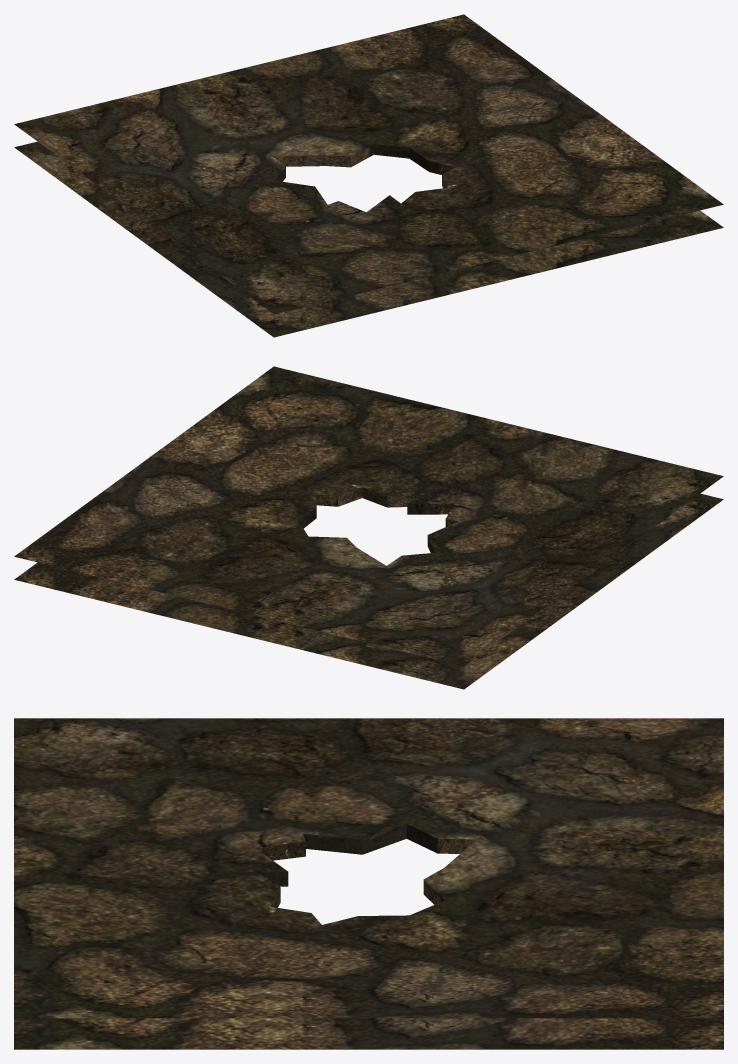
Rendered from prison_tunnel_entry.dae.
The picture shows the model from 3 angles, top to bottom: view 1: azimuth 30°, elevation 25°; view 2: azimuth 150°, elevation 25°; view 3: azimuth 270°, elevation 25°; orthographic projection. The views are drawn at different scales.
Visible parts, largest first — view 1: pPlane1; view 2: pPlane1; view 3: pPlane1.
Boxes of the visible parts, bbox=[...] form: pPlane1: bbox=[14, 14, 723, 337]; pPlane1: bbox=[14, 366, 723, 689]; pPlane1: bbox=[14, 718, 723, 1049].
Size of the model in its own units: 3 by 0.147 by 3.
